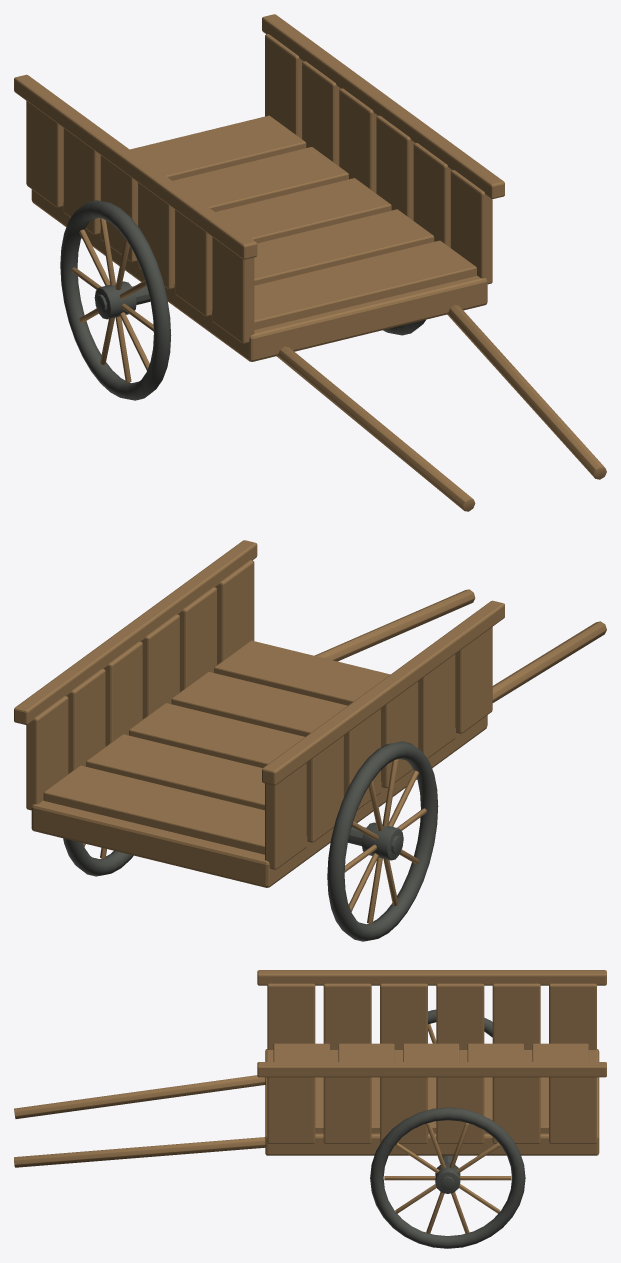
Rendered from Prop_Cart_Detailed_01.fbx.
The picture shows the model from 3 angles, top to bottom: view 1: azimuth 30°, elevation 25°; view 2: azimuth 150°, elevation 25°; view 3: azimuth 270°, elevation 25°; orthographic projection. The views are drawn at different scales.
Visible parts, largest first — view 1: Prop_Cart_Detailed_01_OPT_Merged_ENV_Cart_Wood_OPT_DATA, Prop_Cart_Detailed_01_OPT_Merged_ENV_Cart_Iron_OPT_DATA; view 2: Prop_Cart_Detailed_01_OPT_Merged_ENV_Cart_Wood_OPT_DATA, Prop_Cart_Detailed_01_OPT_Merged_ENV_Cart_Iron_OPT_DATA; view 3: Prop_Cart_Detailed_01_OPT_Merged_ENV_Cart_Wood_OPT_DATA, Prop_Cart_Detailed_01_OPT_Merged_ENV_Cart_Iron_OPT_DATA.
Boxes of the visible parts, x1,y1,x2,y2 form: Prop_Cart_Detailed_01_OPT_Merged_ENV_Cart_Wood_OPT_DATA: (14, 14, 606, 511); Prop_Cart_Detailed_01_OPT_Merged_ENV_Cart_Iron_OPT_DATA: (60, 200, 425, 400); Prop_Cart_Detailed_01_OPT_Merged_ENV_Cart_Wood_OPT_DATA: (14, 540, 606, 923); Prop_Cart_Detailed_01_OPT_Merged_ENV_Cart_Iron_OPT_DATA: (63, 741, 438, 941); Prop_Cart_Detailed_01_OPT_Merged_ENV_Cart_Wood_OPT_DATA: (14, 970, 606, 1233); Prop_Cart_Detailed_01_OPT_Merged_ENV_Cart_Iron_OPT_DATA: (370, 1009, 525, 1248).
Bounding box in the file's own units: 250 × 192 × 568.
